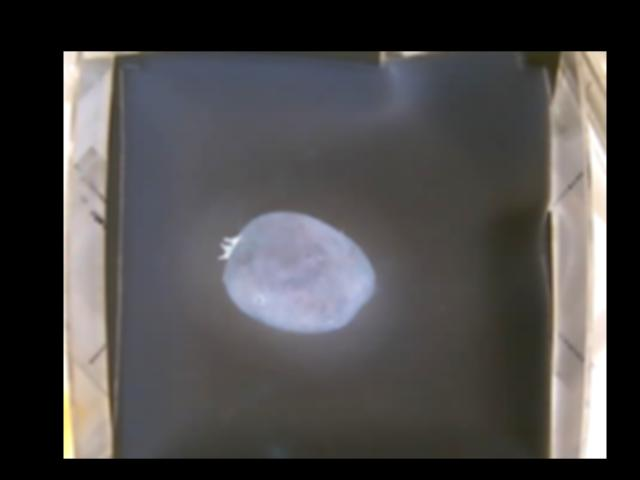Potato: (219, 208, 376, 336)
